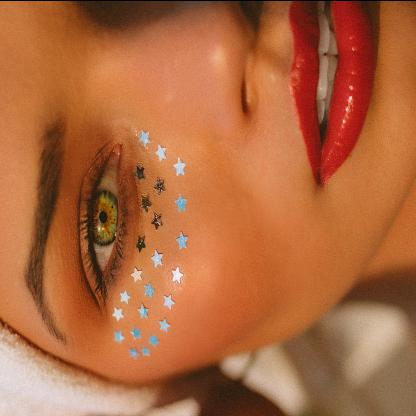Eye: (70, 130, 140, 317)
Mouth: (277, 1, 379, 189)
Nose: (108, 5, 262, 142)
